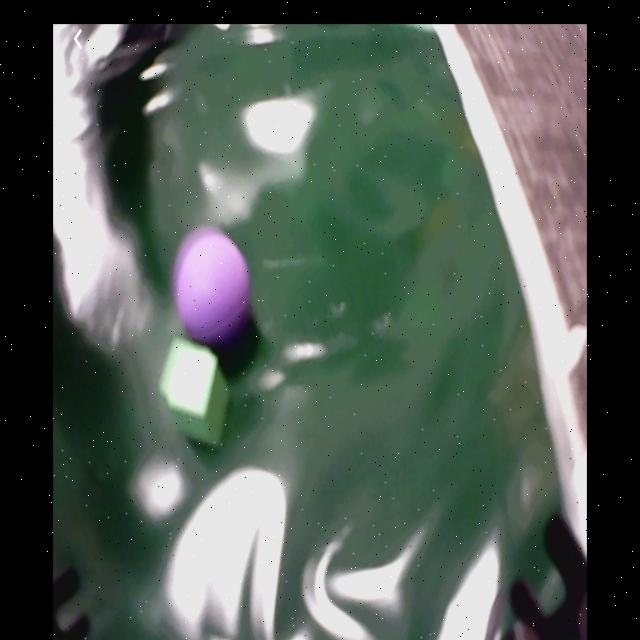ball: (177, 236, 251, 341)
